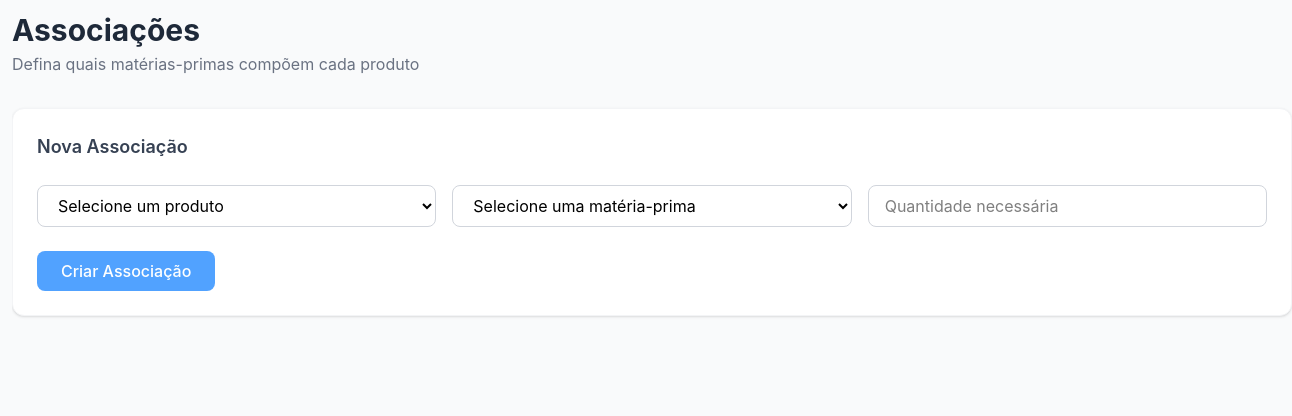
Test: AssociationsPage › should show success message after creation
Select "Mesa" in the 1st dropdown at (237, 206), box top-left (37, 185), bottom-right (436, 227)
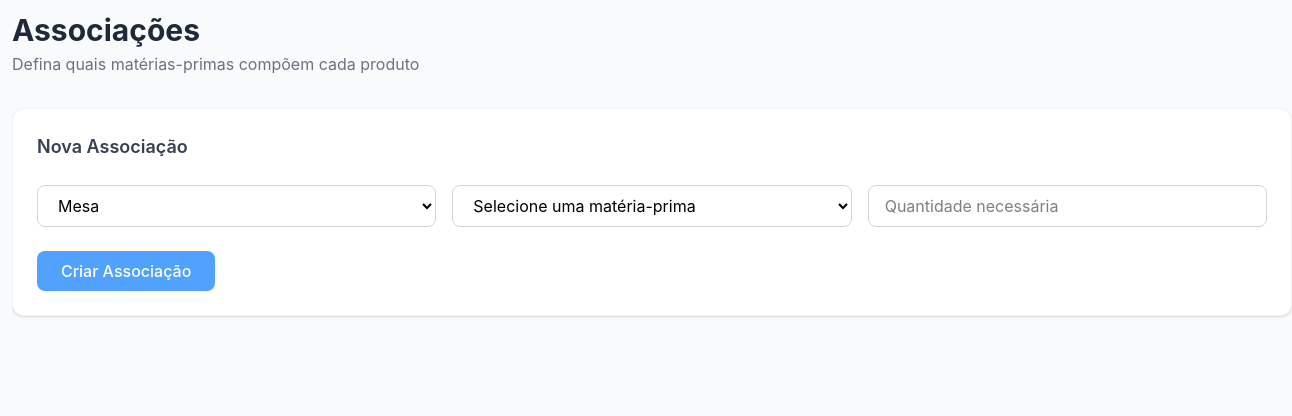
Select "Parafuso" in the 2nd dropdown at (652, 206), box top-left (452, 185), bottom-right (852, 227)
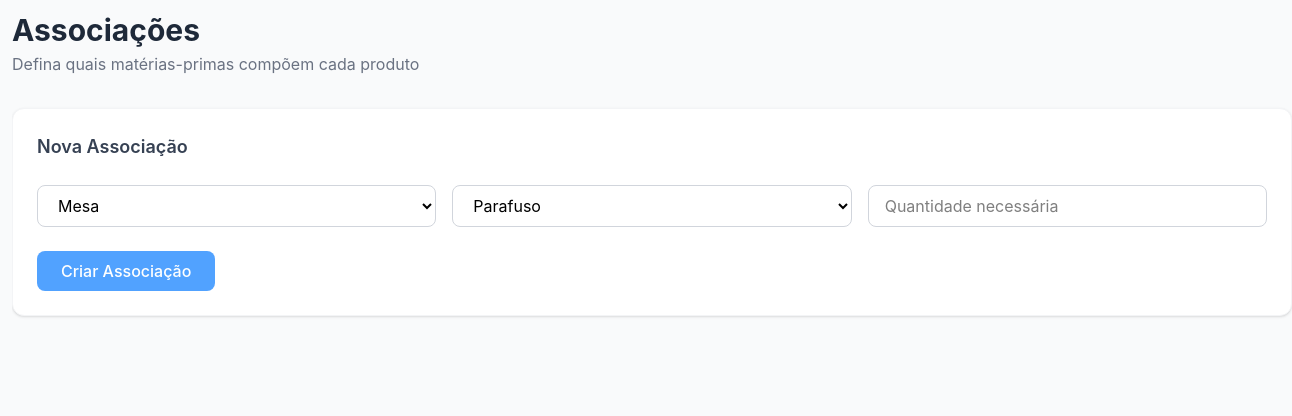
Type "5" into the number field with placeholder "Quantidade necessária".
click(1067, 206); type("5")  # box top-left (868, 185), bottom-right (1267, 227)
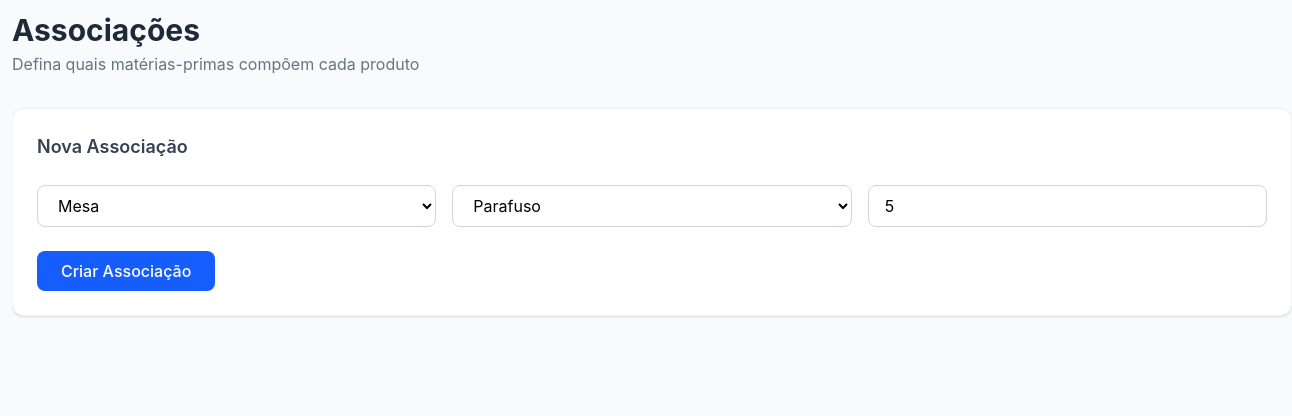
Click the button "Criar Associação".
click(126, 271)  # box top-left (37, 251), bottom-right (215, 291)
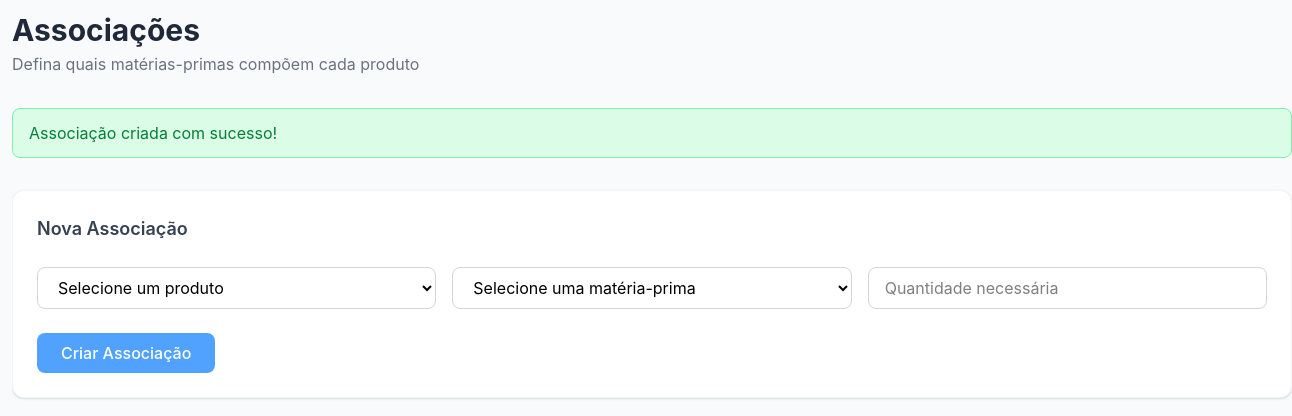
Now the text "Associação criada com sucesso!" is shown, box top-left (12, 108), bottom-right (1291, 158)
